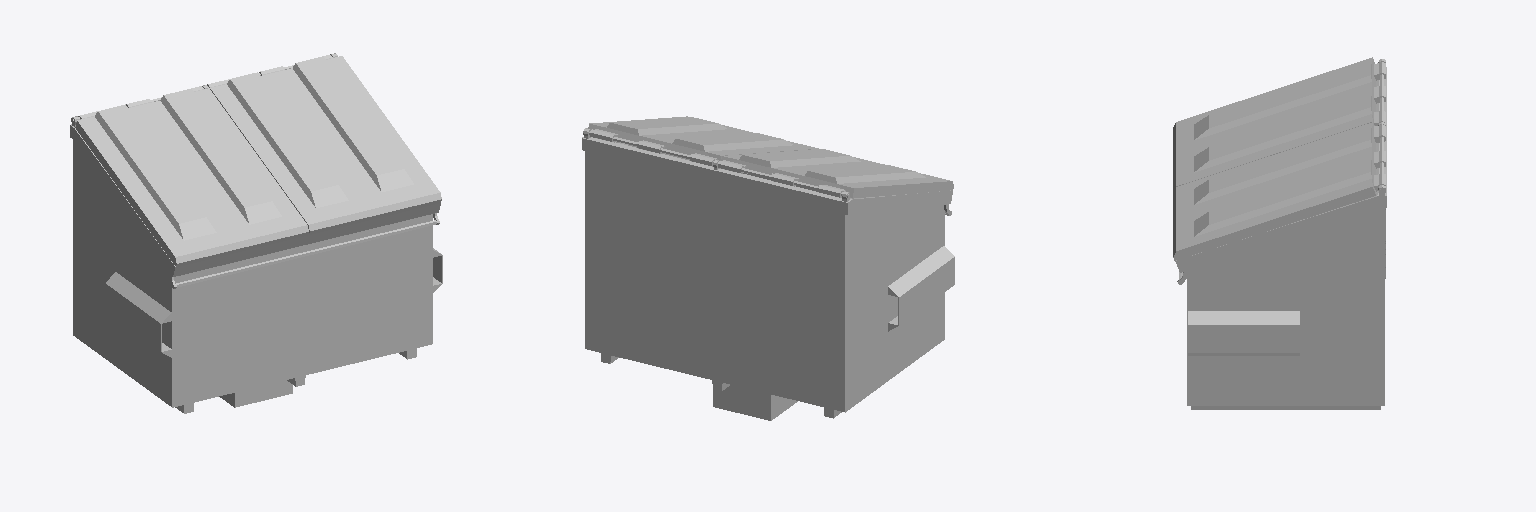
File: dumpster.obj
3 views of the same model, side by side, from view 1: azimuth 30°, elevation 25°; view 2: azimuth 150°, elevation 25°; view 3: azimuth 270°, elevation 25° (orthographic).
Visible parts, largest first — view 1: Old_Dumpster_LowPoly, Cube; view 2: Old_Dumpster_LowPoly, Cube; view 3: Old_Dumpster_LowPoly.
Boxes of the visible parts, x1,y1,x2,y2 form: Old_Dumpster_LowPoly: [70, 53, 442, 413]; Cube: [219, 380, 292, 407]; Old_Dumpster_LowPoly: [582, 116, 954, 418]; Cube: [713, 385, 797, 420]; Old_Dumpster_LowPoly: [1173, 57, 1386, 409].
Size of the model in its own units: 9.7 by 9.15 by 6.37.